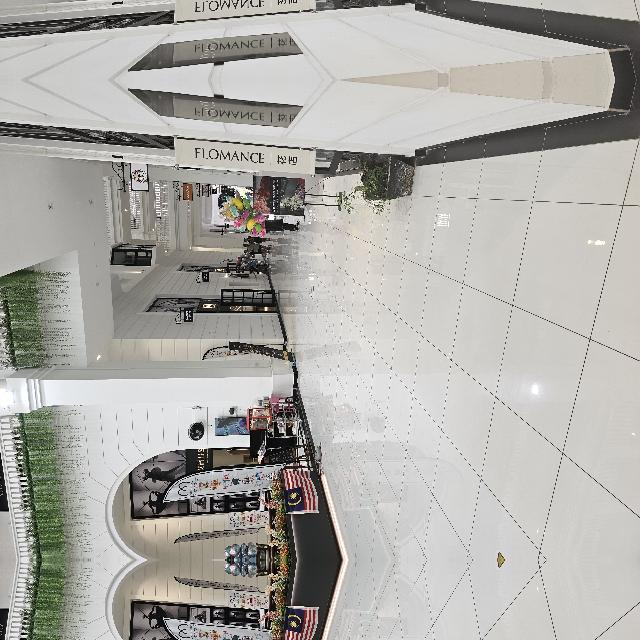obstacle: (1, 348, 108, 422), (338, 324, 388, 428), (106, 317, 172, 389), (349, 426, 411, 494), (349, 626, 411, 640)
person: (305, 319, 325, 351)
